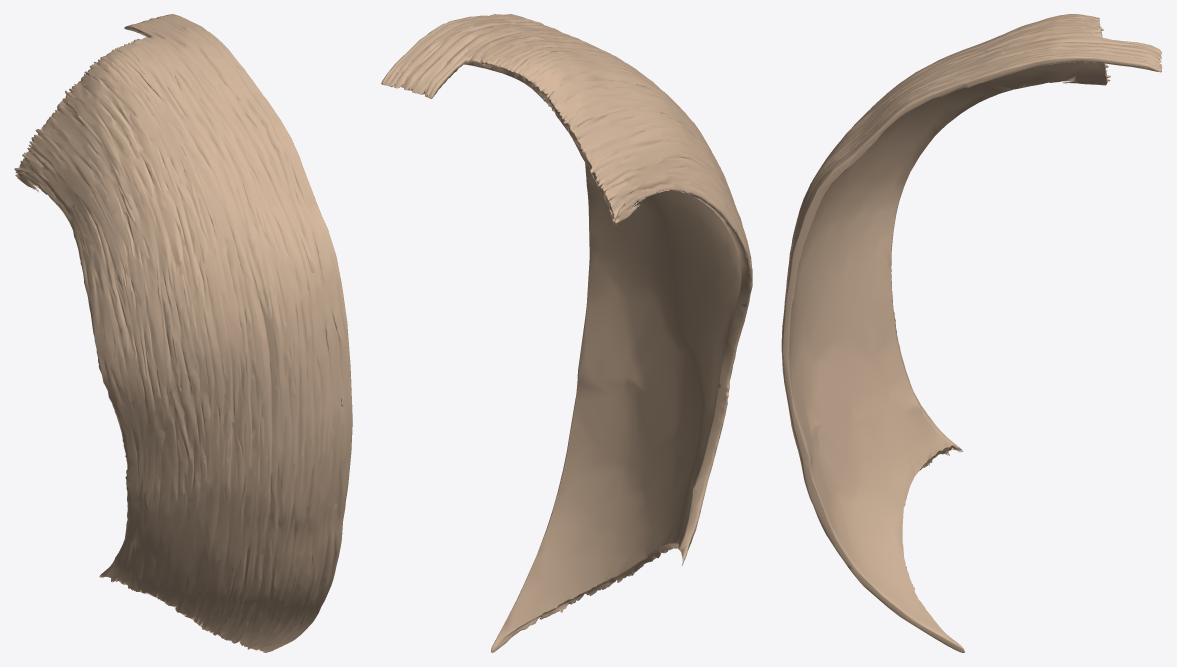
3 views of the same model, side by side, from view 1: azimuth 30°, elevation 25°; view 2: azimuth 150°, elevation 25°; view 3: azimuth 270°, elevation 25° (orthographic). The views are drawn at different scales.
Visible parts, largest first — view 1: 右侧帽状腱膜; view 2: 右侧帽状腱膜; view 3: 右侧帽状腱膜.
Boxes of the visible parts, x1,y1,x2,y2 form: 右侧帽状腱膜: (14,14,352,652); 右侧帽状腱膜: (381,14,752,652); 右侧帽状腱膜: (781,14,1162,652).
Bounding box in the file's own units: 0.0986 × 0.2777 × 0.1607.
